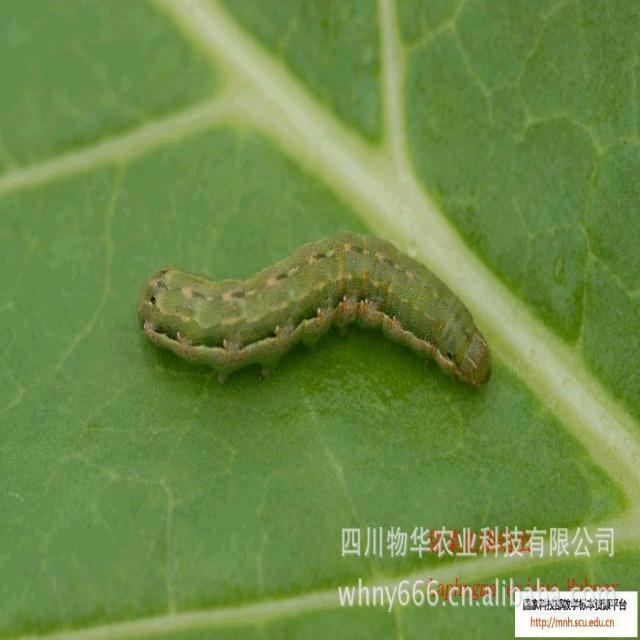BeetArmyWorm-Larva-: (129, 229, 494, 403)
